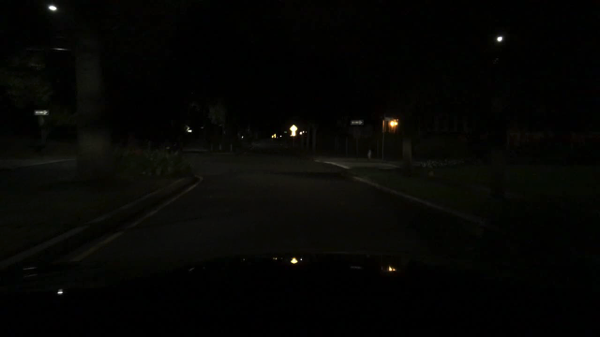car: (166, 141, 184, 154)
traffic sign: (35, 110, 50, 115), (290, 125, 299, 133), (351, 120, 364, 125), (290, 133, 296, 138)
